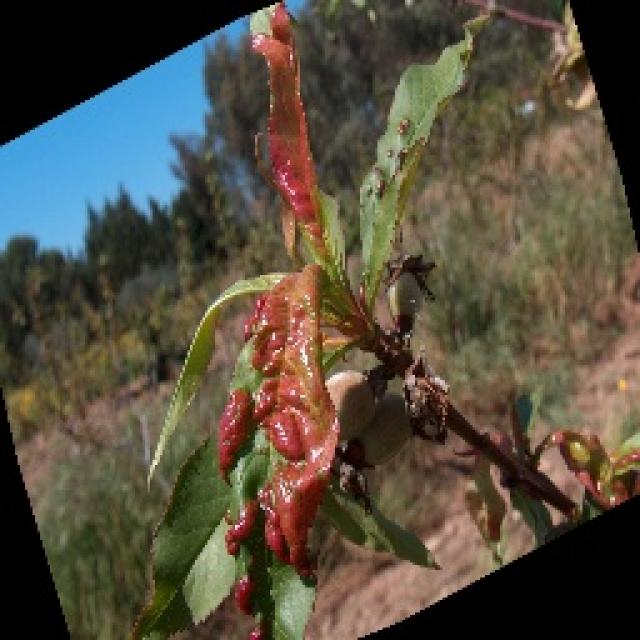peach_leaf_curl: (212, 260, 342, 582)
